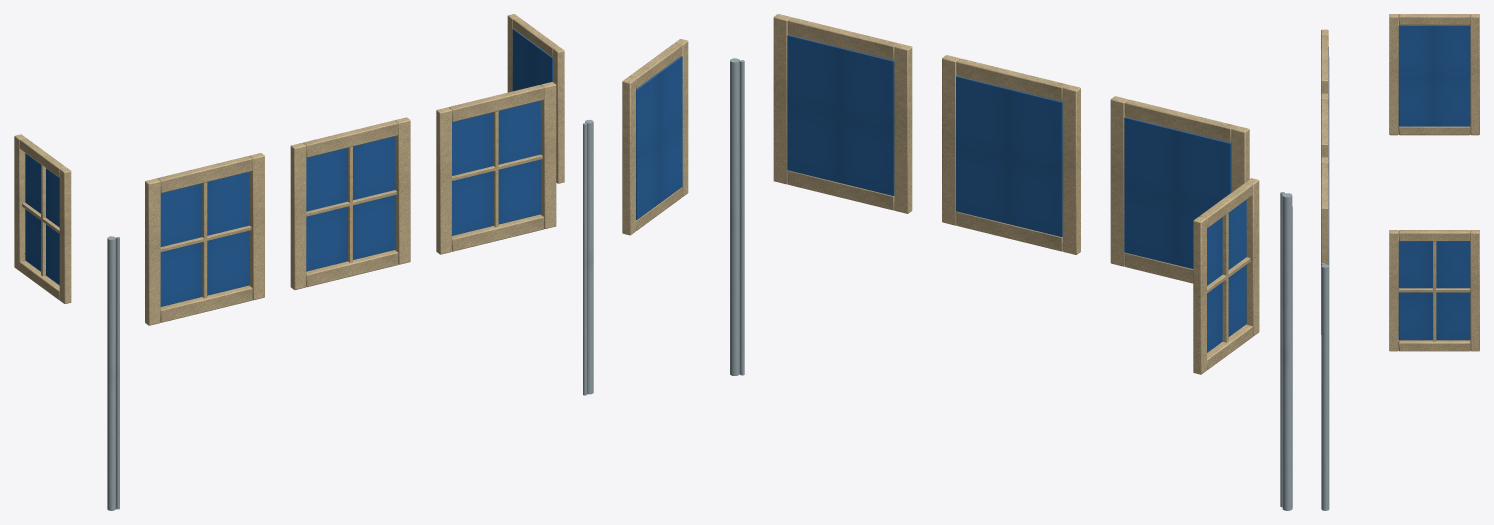
File: 4-upright-tin-band-2-2.fbx
The picture shows the model from 3 angles, left to right: view 1: azimuth 30°, elevation 25°; view 2: azimuth 150°, elevation 25°; view 3: azimuth 270°, elevation 25°; orthographic projection. The views are drawn at different scales.
Parts seen in each view (by area): view 1: upright-tin-band-2-2; view 2: upright-tin-band-2-2; view 3: upright-tin-band-2-2.
Boxes of the visible parts, x1,y1,x2,y2 form: upright-tin-band-2-2: (14,14,593,510); upright-tin-band-2-2: (622,14,1292,510); upright-tin-band-2-2: (1321,14,1479,510).
Size of the model in its own units: 10310 by 6267 by 3155.
Materials: 1 (1 with a texture image).
